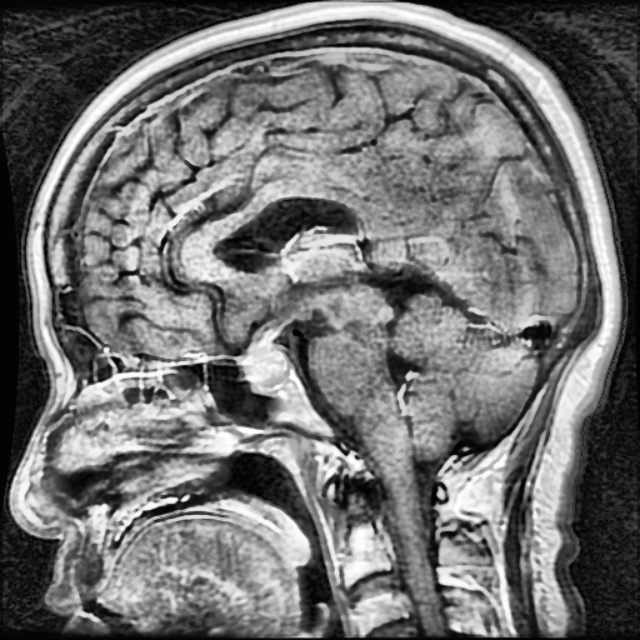Pituitary: (242, 329, 287, 384)
